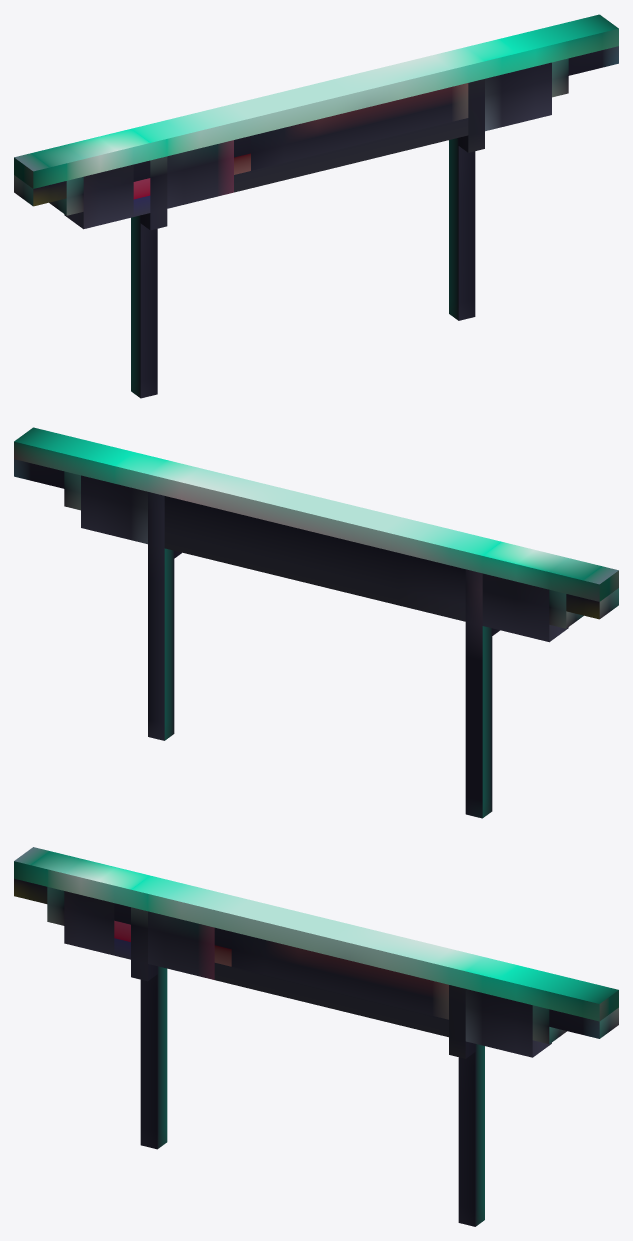
The model's file is Neon_Turquoise_00.fbx.
3 renders of one model, top to bottom at view 1: azimuth 30°, elevation 25°; view 2: azimuth 150°, elevation 25°; view 3: azimuth 330°, elevation 25°, orthographic.
Parts seen in each view (by area): view 1: Neon_Turquoise_00; view 2: Neon_Turquoise_00; view 3: Neon_Turquoise_00.
Part boxes in pixels (<box>): Neon_Turquoise_00: <box>14,14,618,398</box>; Neon_Turquoise_00: <box>14,427,618,818</box>; Neon_Turquoise_00: <box>14,847,618,1226</box>.
Size of the model in its own units: 175 by 75 by 10.
